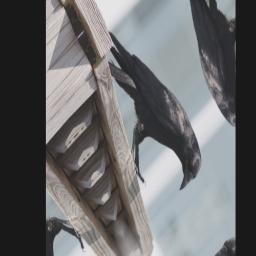Crow: (82, 1, 210, 220)
